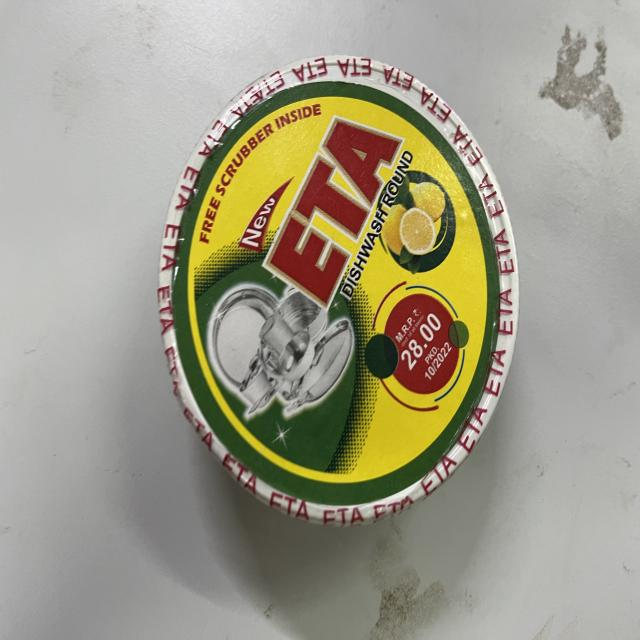L2: (150, 36, 526, 532)
